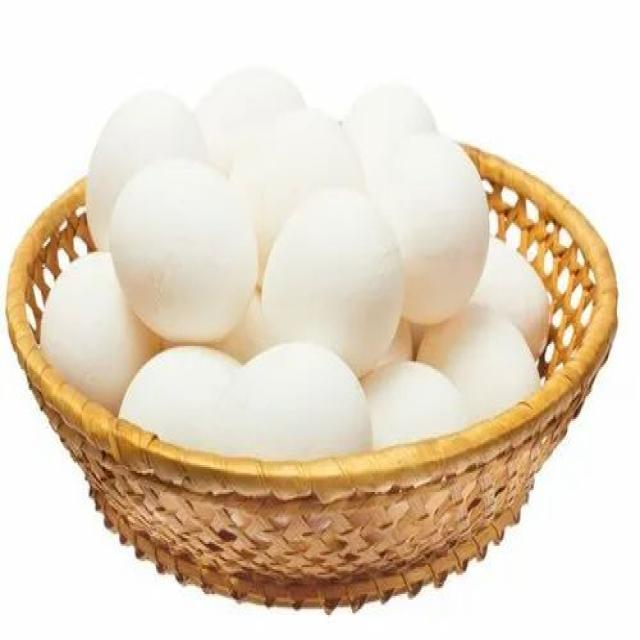Egg: (120, 345, 372, 460), (110, 160, 256, 343), (262, 188, 404, 374), (230, 111, 364, 277), (378, 133, 489, 324), (41, 252, 161, 414), (86, 92, 205, 251), (242, 342, 371, 459)
